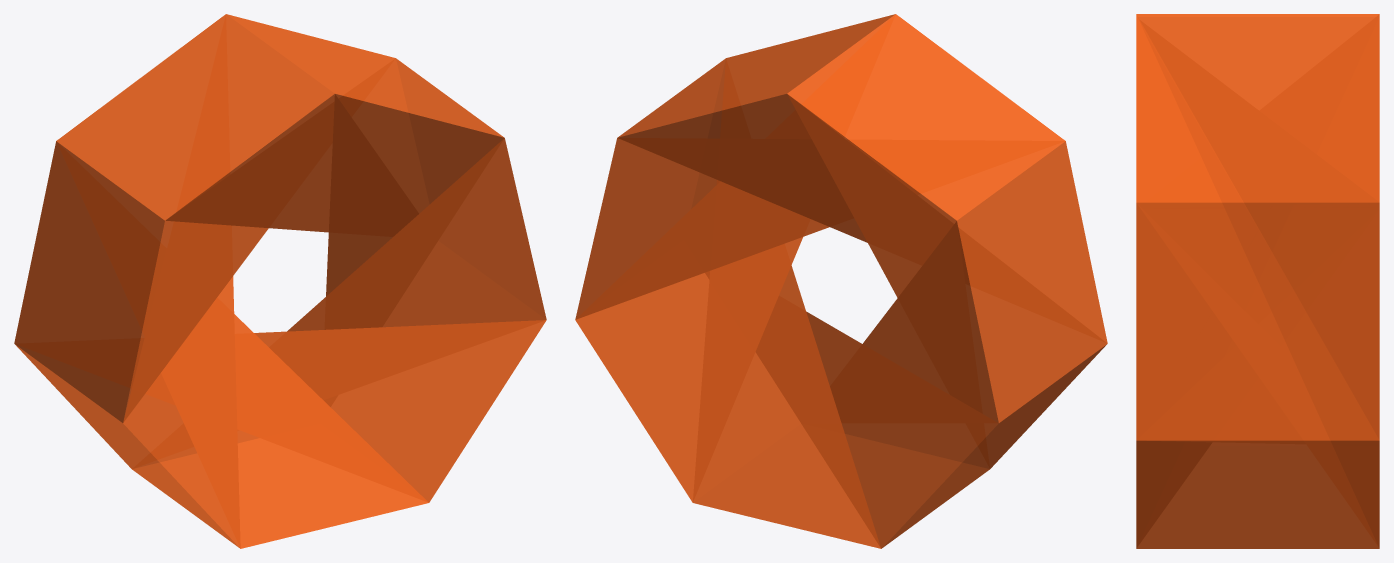
File: HeptagonalIrisToroid.obj
3 renders of one model, left to right at view 1: azimuth 30°, elevation 25°; view 2: azimuth 150°, elevation 25°; view 3: azimuth 270°, elevation 25°, orthographic. The views are drawn at different scales.
Bounding box in the file's own units: 2.25 × 2.19 × 1.
